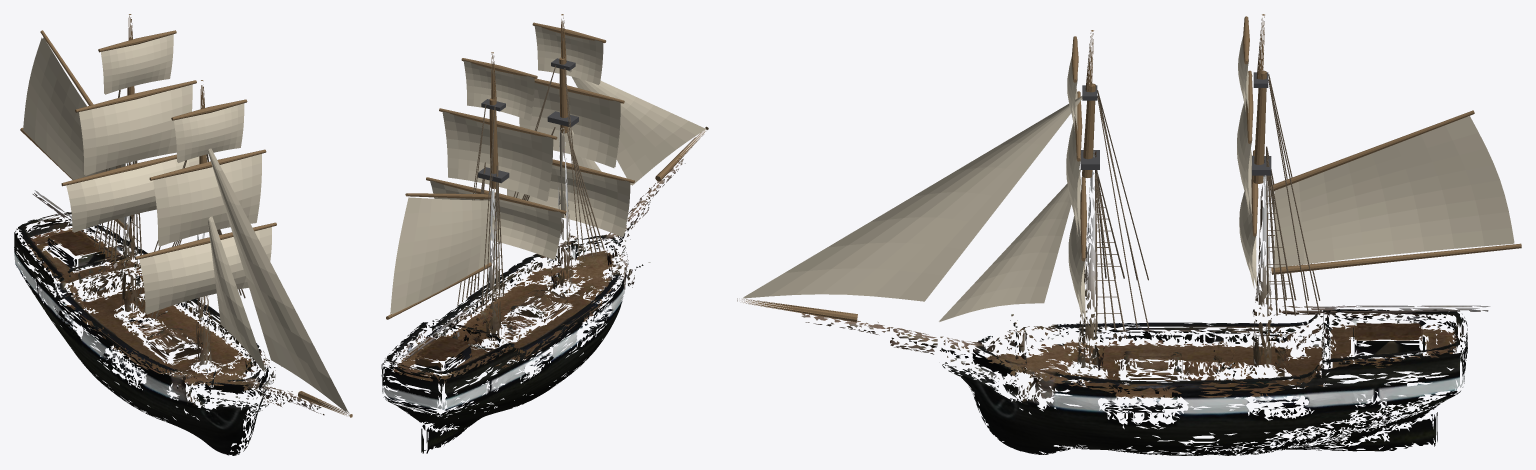
The model's file is tall_brig_rigged.glb.
3 views of the same model, side by side, from view 1: azimuth 30°, elevation 25°; view 2: azimuth 150°, elevation 25°; view 3: azimuth 270°, elevation 25° (orthographic). The views are drawn at different scales.
Visible parts, largest first — view 1: HullBody, PART_jib, PART_sail_m1_1, PART_sail_m0_1, PART_sail_spanker, PART_sail_m0_0, PART_sail_m1_0, PART_sail_m1_2, PART_sail_m0_2, PART_fore_staysail, PART_yard_m1_1, PART_yard_m1_0 (+5 smaller); view 2: HullBody, PART_sail_spanker, PART_sail_m1_1, PART_jib, PART_sail_m0_1, PART_sail_m0_0, PART_sail_m1_0, PART_sail_m1_2, PART_sail_m0_2, PART_yard_m1_0, PART_yard_m1_1, PART_yard_m0_1 (+5 smaller); view 3: HullBody, PART_sail_spanker, PART_jib, PART_fore_staysail, PART_boom_spanker, PART_gaff_spanker, PART_sail_m0_0, PART_sail_m1_1, PART_sail_m0_1, PART_sail_m1_0.
Part boxes in pixels (bbox=[...]): HullBody: bbox=[14, 14, 352, 455]; PART_jib: bbox=[207, 148, 348, 412]; PART_sail_m1_1: bbox=[79, 84, 192, 175]; PART_sail_m0_1: bbox=[153, 154, 261, 246]; PART_sail_spanker: bbox=[23, 37, 125, 223]; PART_sail_m0_0: bbox=[139, 227, 271, 314]; PART_sail_m1_0: bbox=[66, 156, 199, 232]; PART_sail_m1_2: bbox=[100, 34, 173, 94]; PART_sail_m0_2: bbox=[174, 103, 244, 162]; PART_fore_staysail: bbox=[207, 216, 266, 372]; PART_yard_m1_1: bbox=[75, 80, 196, 112]; PART_yard_m1_0: bbox=[61, 154, 176, 186]; HullBody: bbox=[381, 14, 708, 453]; PART_sail_spanker: bbox=[390, 197, 489, 314]; PART_sail_m1_1: bbox=[442, 111, 553, 201]; PART_jib: bbox=[568, 69, 705, 185]; PART_sail_m0_1: bbox=[519, 83, 620, 167]; PART_sail_m0_0: bbox=[507, 165, 630, 236]; PART_sail_m1_0: bbox=[430, 180, 561, 259]; PART_sail_m1_2: bbox=[463, 61, 534, 120]; PART_sail_m0_2: bbox=[534, 25, 603, 84]; PART_yard_m1_0: bbox=[426, 177, 566, 213]; PART_yard_m1_1: bbox=[439, 108, 557, 139]; PART_yard_m0_1: bbox=[534, 78, 624, 103]; HullBody: bbox=[737, 14, 1490, 455]; PART_sail_spanker: bbox=[1274, 116, 1514, 267]; PART_jib: bbox=[743, 96, 1082, 301]; PART_fore_staysail: bbox=[939, 169, 1080, 321]; PART_boom_spanker: bbox=[1271, 243, 1521, 274]; PART_gaff_spanker: bbox=[1271, 110, 1474, 190]; PART_sail_m0_0: bbox=[1068, 181, 1085, 322]; PART_sail_m1_1: bbox=[1237, 75, 1252, 215]; PART_sail_m0_1: bbox=[1066, 116, 1080, 236]; PART_sail_m1_0: bbox=[1239, 166, 1256, 288].
Size of the model in its own units: 11.79 by 29.03 by 46.97.
5 materials, 1 textured.
